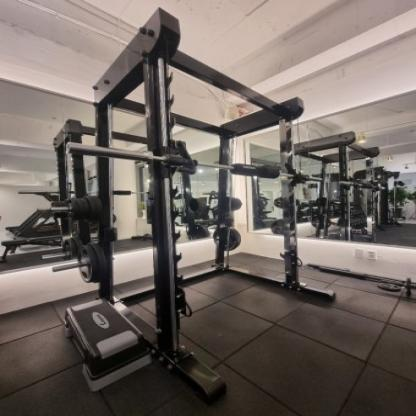smith machine: (94, 7, 307, 406)
